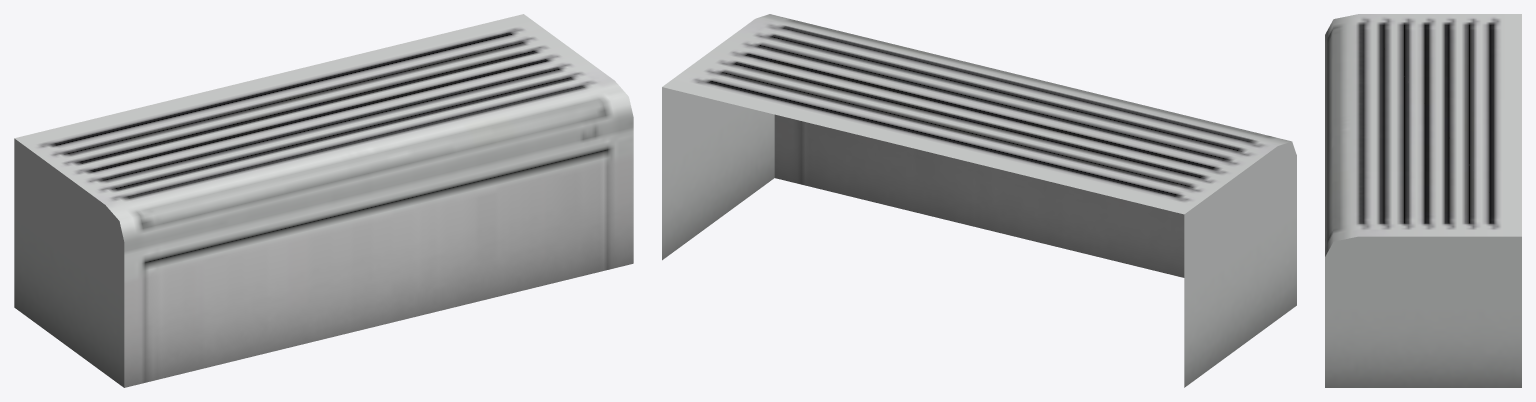
The model's file is airco.FBX.
The picture shows the model from 3 angles, left to right: view 1: azimuth 30°, elevation 25°; view 2: azimuth 150°, elevation 25°; view 3: azimuth 270°, elevation 25°; orthographic projection. The views are drawn at different scales.
Visible parts, largest first — view 1: airco; view 2: airco; view 3: airco.
Part boxes in pixels (x1=…): airco: x1=14, y1=14, x2=633, y2=387; airco: x1=662, y1=14, x2=1296, y2=387; airco: x1=1325, y1=14, x2=1521, y2=387.
Size of the model in its own units: 99.09 by 31.45 by 37.03.
